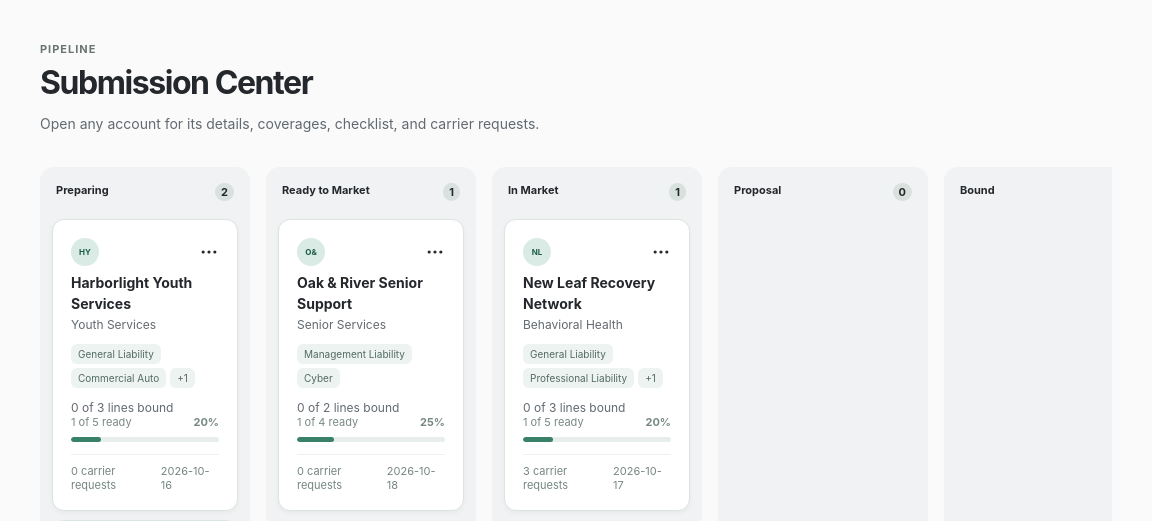
adds and removes submission coverages, retains edits when reopened, and backs them up
Click the 1st button "Harborlight Youth Services" at [145, 365], box [52,219,238,511]
(page scrolled)
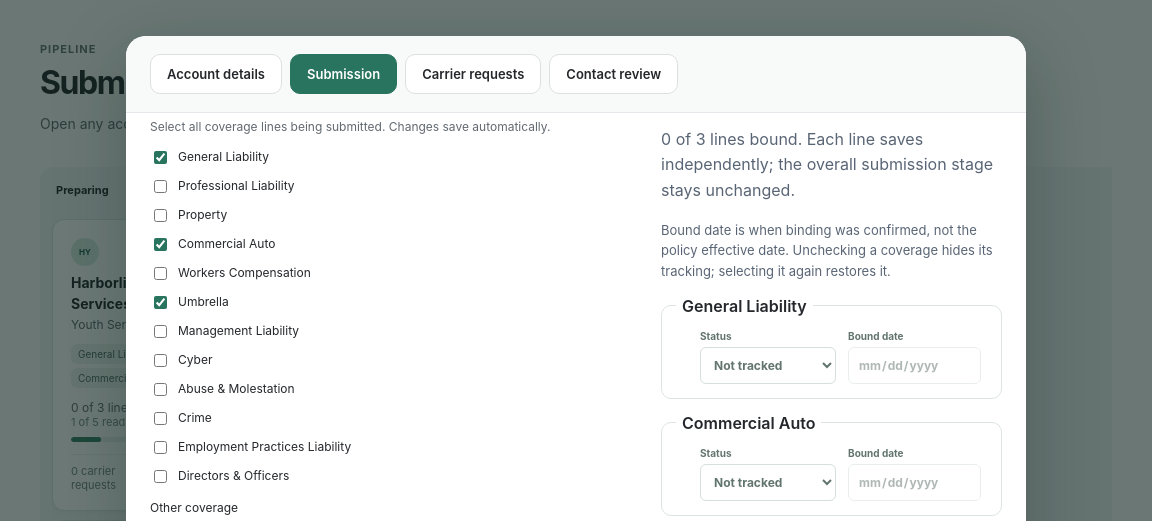
Now the checkbox labelled "Commercial Auto" is checked, box [154,238,167,251]
Click the checkbox labelled "Cyber" at [160, 360], box [154,354,167,367]
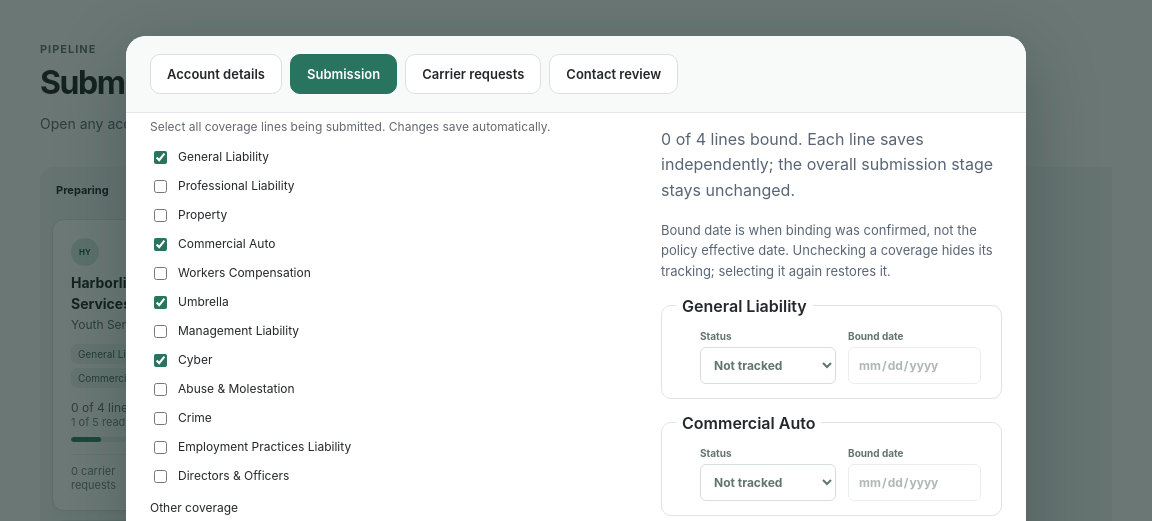
Click the checkbox labelled "Commercial Auto" at [160, 244], box [154,238,167,251]
(page scrolled)
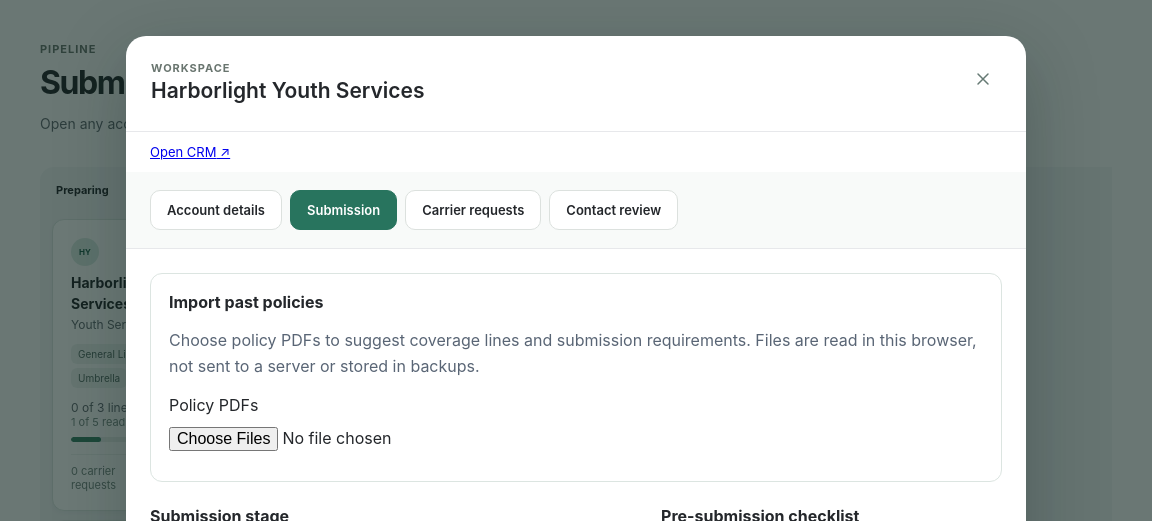
Click the button named "Close" at [983, 79], box [965,61,1001,97]
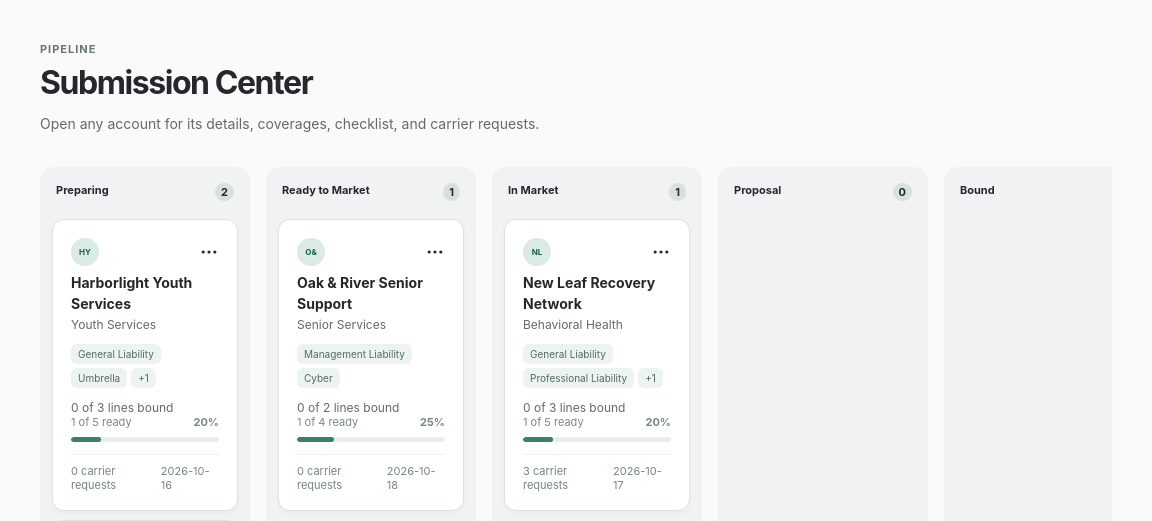
Click the button "Harborlight Youth Services" at [145, 365], box [52,219,238,511]
(page scrolled)
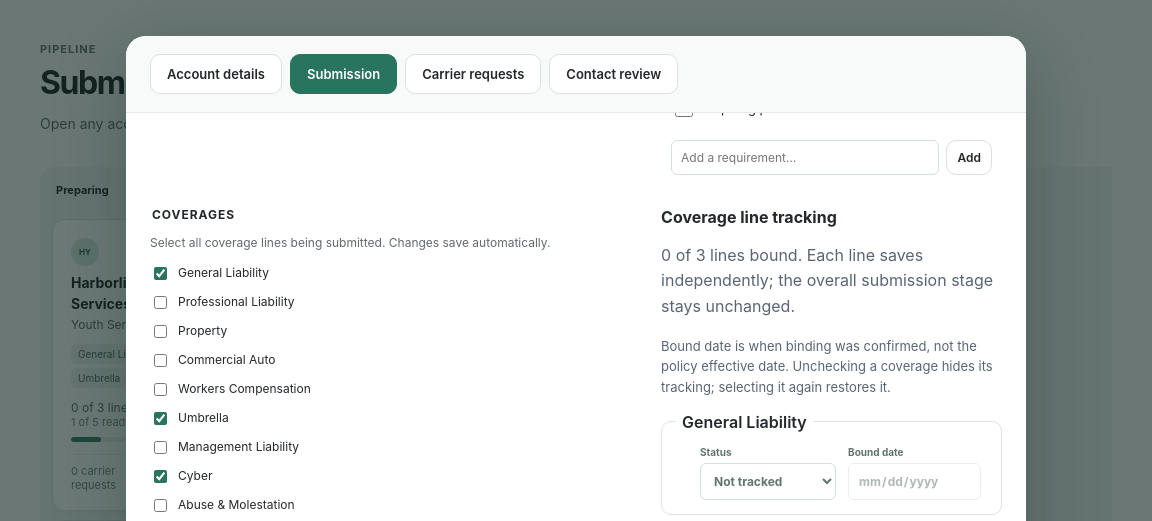
Now the checkbox labelled "Cyber" is checked, box [154,470,167,483]
Now the checkbox labelled "Commercial Auto" is not checked, box [154,354,167,367]
